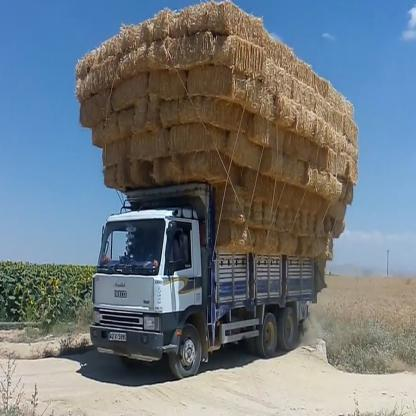overloaded-truck: (75, 11, 356, 363)
